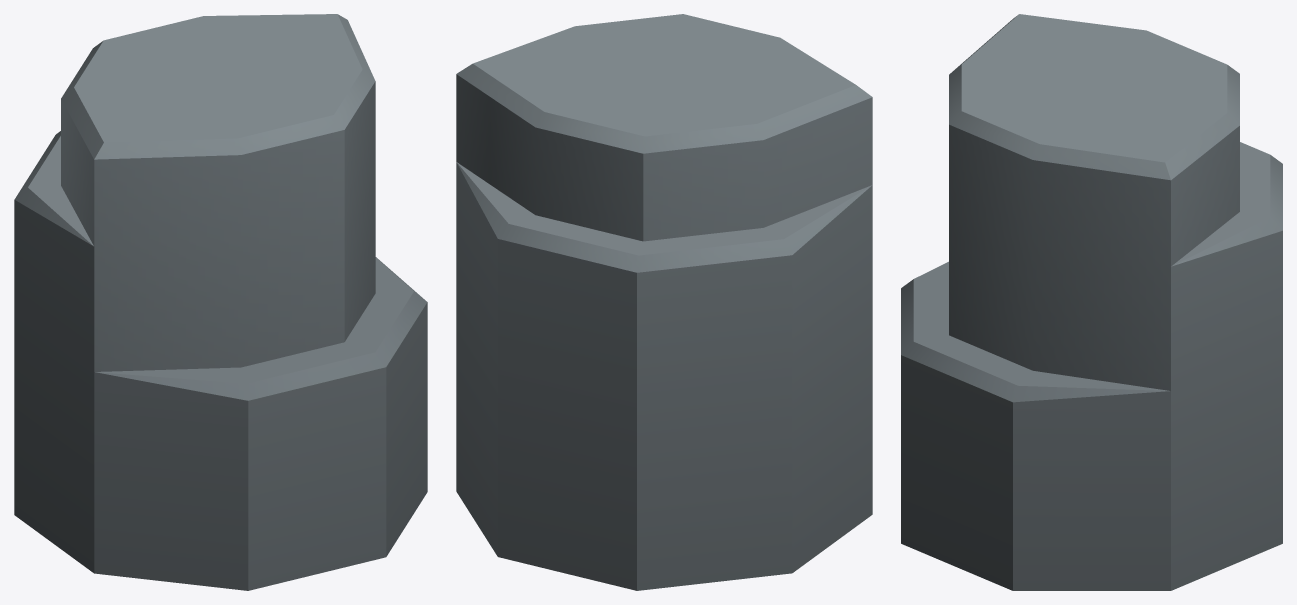
Rendered from Rock_1_H_Color1.glb.
3 views of the same model, side by side, from view 1: azimuth 30°, elevation 25°; view 2: azimuth 150°, elevation 25°; view 3: azimuth 270°, elevation 25° (orthographic).
Visible parts, largest first — view 1: Rock_1_H_Color1; view 2: Rock_1_H_Color1; view 3: Rock_1_H_Color1.
Part boxes in pixels (left/top/right/bottom): Rock_1_H_Color1: left=14, top=14, right=427, bottom=590; Rock_1_H_Color1: left=456, top=14, right=872, bottom=590; Rock_1_H_Color1: left=901, top=14, right=1282, bottom=590.
Size of the model in its own units: 1.53 by 1.87 by 1.53.
Materials: 1 (1 with a texture image).
